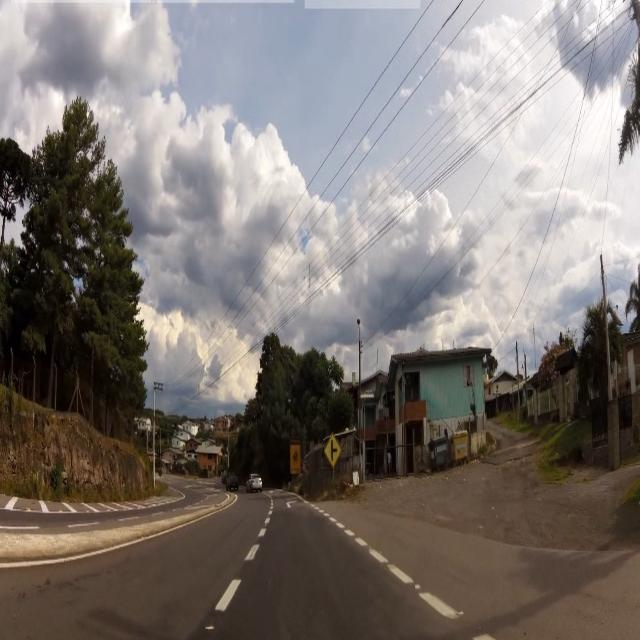A-7b: (326, 431, 340, 474)
